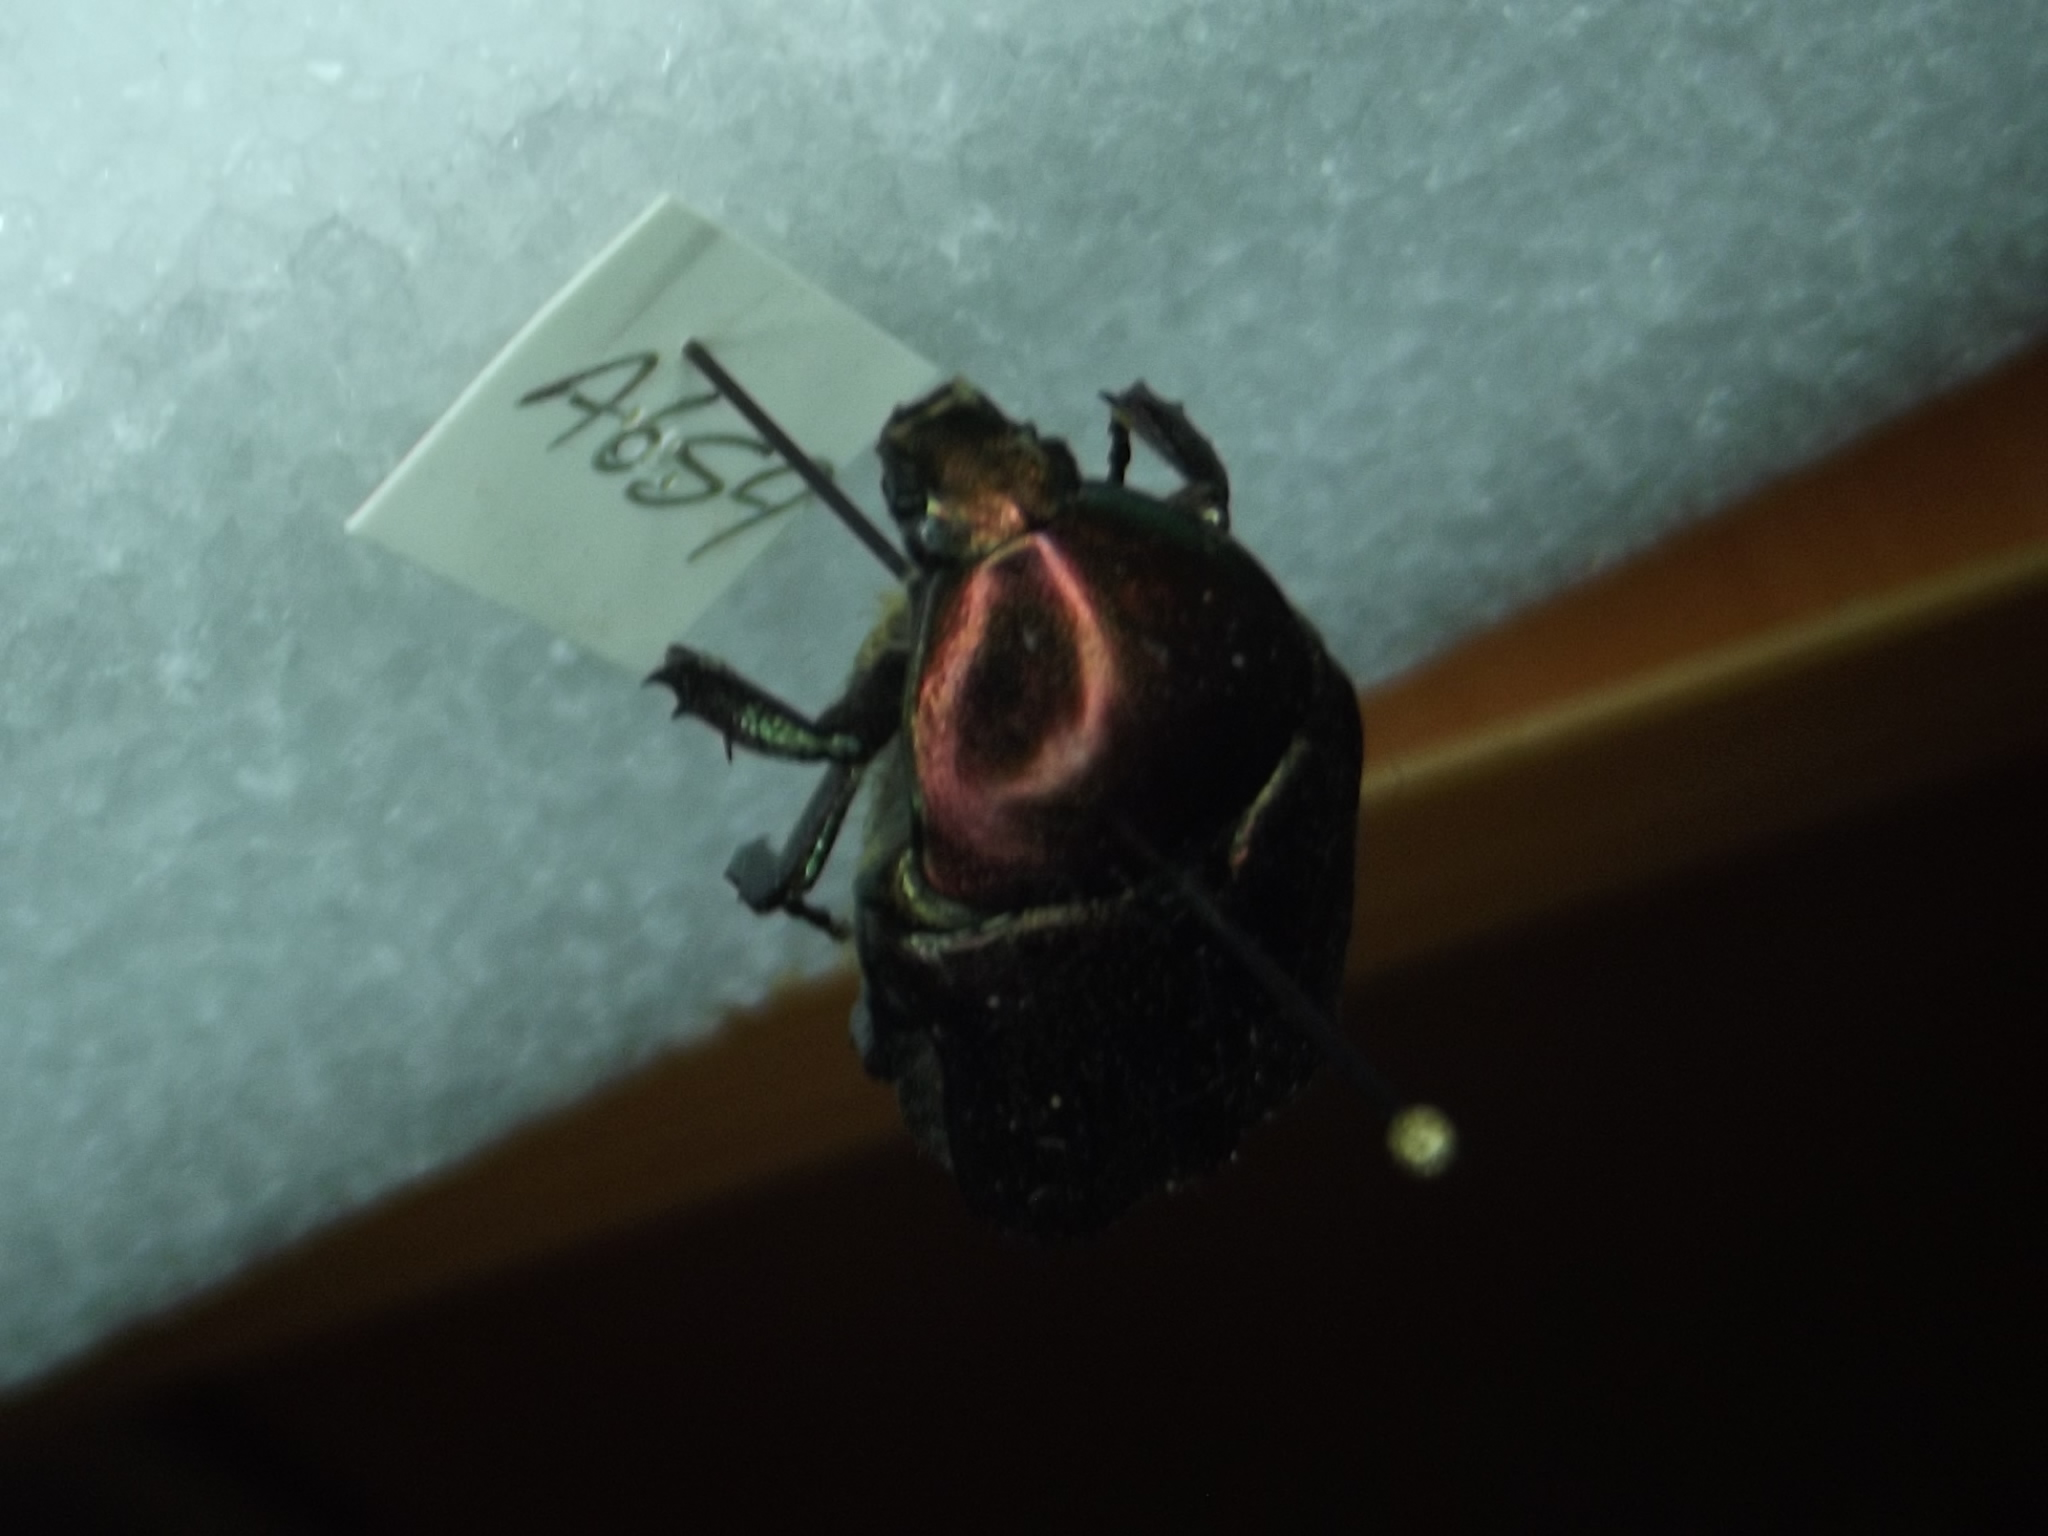Protaetia_cuprea_ignicollis: (627, 332, 1384, 1241)
